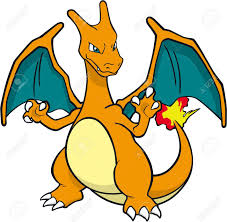charizard: (2, 1, 226, 222)
